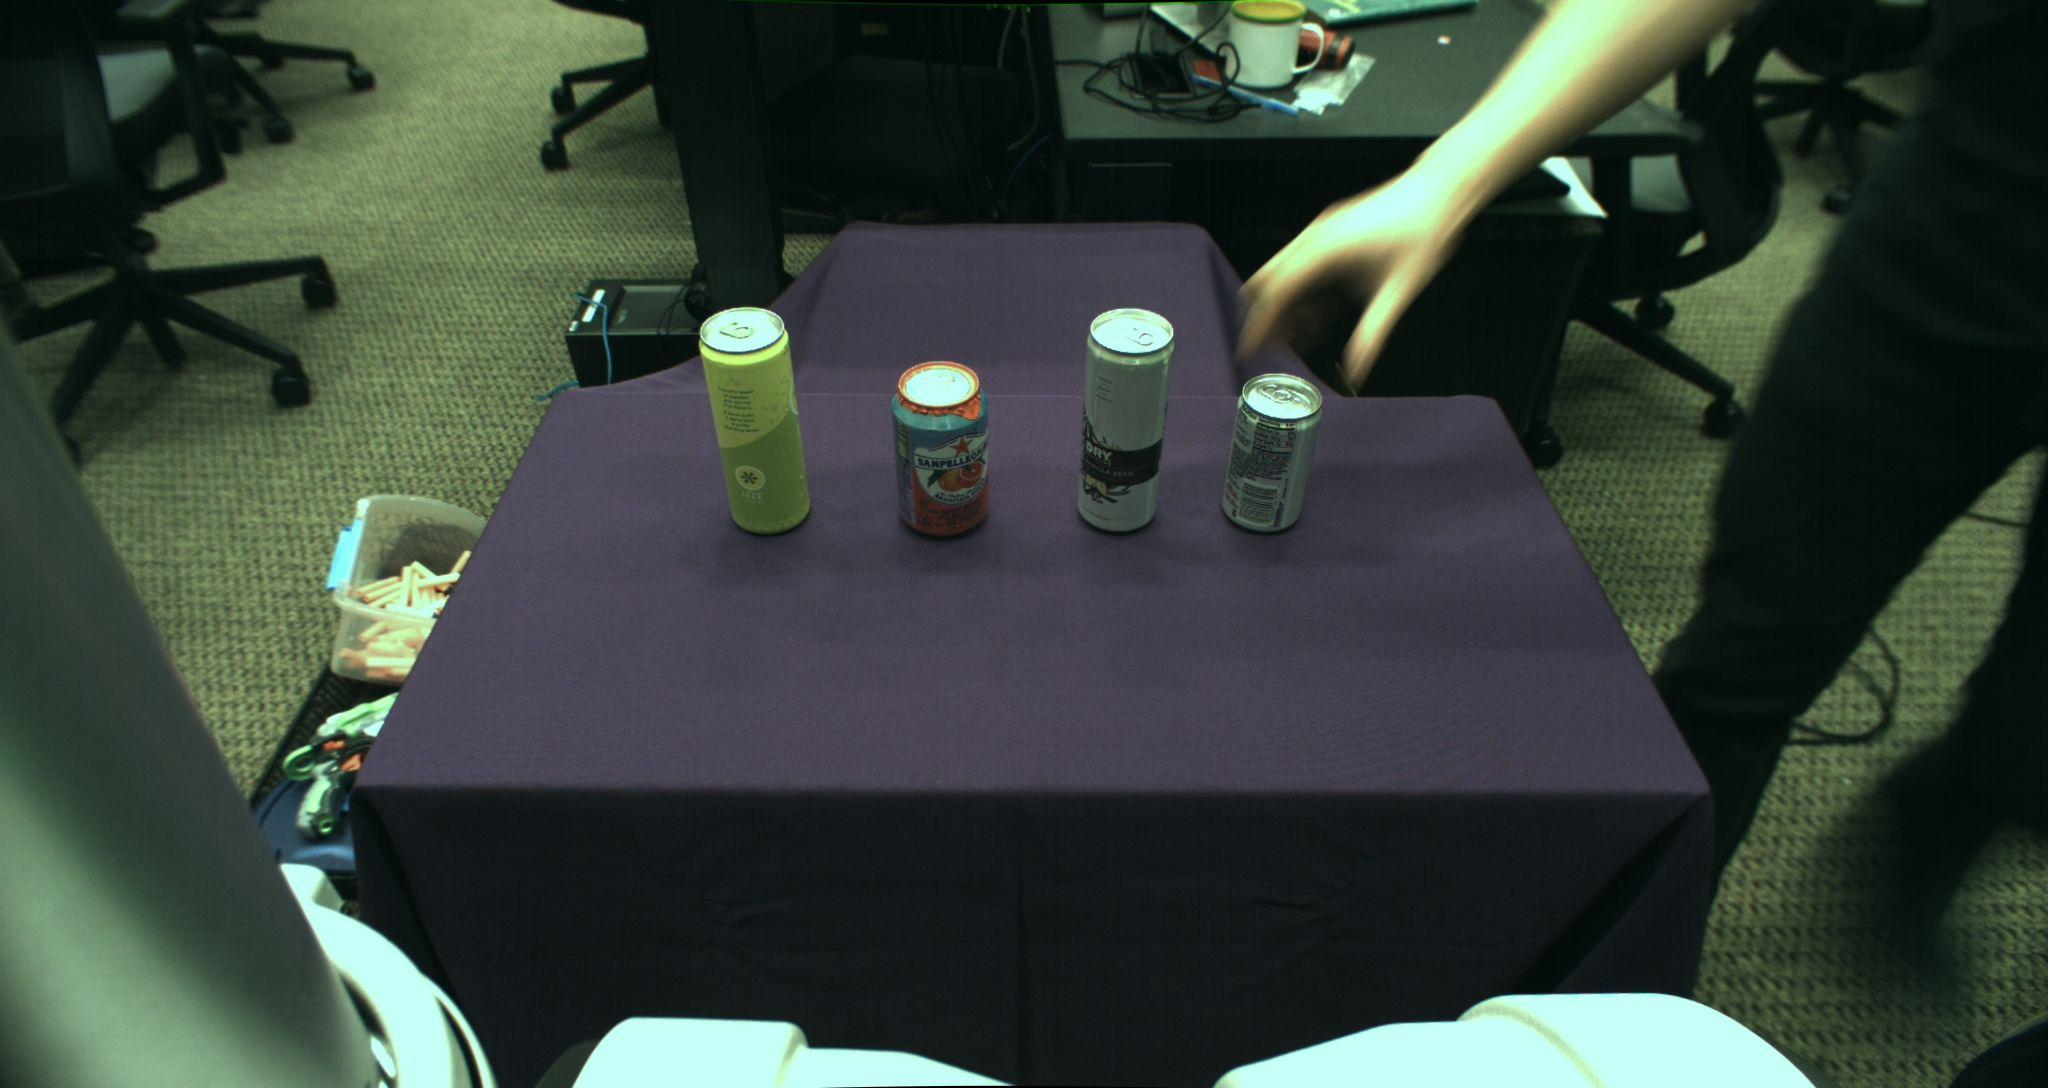can_diet_coke_small: (1220, 373, 1322, 532)
can_dry_sparkling_vanilla_bean: (1075, 306, 1172, 532)
can_izze_fusions_lemon_lime: (698, 304, 811, 537)
can_sanpellegrino_blood_orange: (891, 360, 991, 537)
